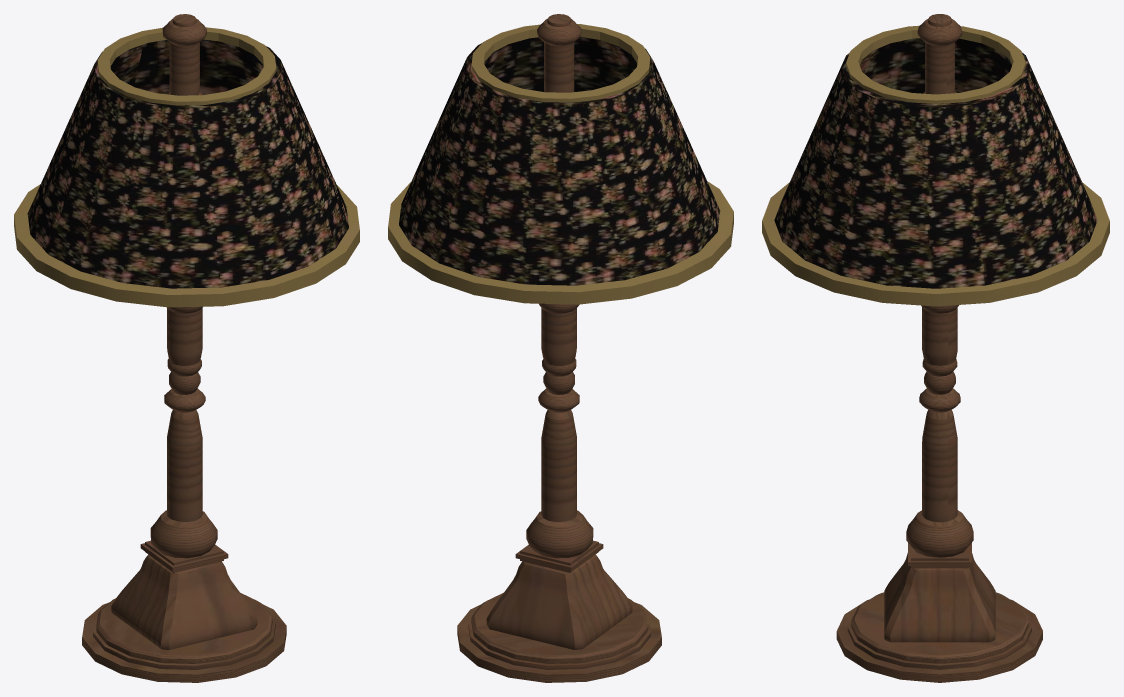
File: table-lamp-old.glb
3 renders of one model, left to right at view 1: azimuth 30°, elevation 25°; view 2: azimuth 150°, elevation 25°; view 3: azimuth 270°, elevation 25°, orthographic.
Parts seen in each view (by area): view 1: pasted__pasted__pCylinder37, pasted__pasted__pasted__pasted__pasted__pasted__pasted__past (×6), pasted__pCube38, pasted__pCylinder41, pasted__pasted__pasted__pCylinder38, pasted__pasted__pCylinder40, pasted__pCylinder40, pasted__pasted__pasted__pasted__pasted__pasted__pCylinder17_, pasted__pasted__pCylinder39, pasted__pasted__pCube38; view 2: pasted__pasted__pCylinder37, pasted__pasted__pasted__pasted__pasted__pasted__pasted__past (×6), pasted__pCube38, pasted__pCylinder41, pasted__pasted__pasted__pCylinder38, pasted__pasted__pCylinder40, pasted__pCylinder40, pasted__pasted__pasted__pasted__pasted__pasted__pCylinder17_, pasted__pasted__pCylinder39, pasted__pasted__pCube38; view 3: pasted__pasted__pCylinder37, pasted__pasted__pasted__pasted__pasted__pasted__pasted__past (×6), pasted__pCube38, pasted__pCylinder41, pasted__pasted__pasted__pCylinder38, pasted__pasted__pCylinder40, pasted__pCylinder40, pasted__pasted__pasted__pasted__pasted__pasted__pCylinder17_, pasted__pasted__pCylinder39.
Part boxes in pixels (bbox=[...]): pasted__pasted__pCylinder37: bbox=[27, 39, 348, 288]; pasted__pasted__pasted__pasted__pasted__pasted__pasted__past (×6): bbox=[150, 18, 217, 558]; pasted__pCube38: bbox=[111, 554, 257, 649]; pasted__pCylinder41: bbox=[14, 184, 359, 307]; pasted__pasted__pasted__pCylinder38: bbox=[96, 593, 272, 663]; pasted__pasted__pCylinder40: bbox=[97, 27, 276, 105]; pasted__pCylinder40: bbox=[82, 602, 286, 682]; pasted__pasted__pasted__pasted__pasted__pasted__pCylinder17_: bbox=[169, 14, 199, 95]; pasted__pasted__pCylinder39: bbox=[93, 615, 275, 669]; pasted__pasted__pCube38: bbox=[140, 543, 228, 571]; pasted__pasted__pCylinder37: bbox=[399, 37, 720, 285]; pasted__pasted__pasted__pasted__pasted__pasted__pasted__past (×6): bbox=[526, 18, 593, 558]; pasted__pCube38: bbox=[486, 554, 632, 649]; pasted__pCylinder41: bbox=[388, 181, 733, 304]; pasted__pasted__pasted__pCylinder38: bbox=[471, 593, 647, 663]; pasted__pasted__pCylinder40: bbox=[471, 24, 650, 102]; pasted__pCylinder40: bbox=[457, 602, 661, 682]; pasted__pasted__pasted__pasted__pasted__pasted__pCylinder17_: bbox=[544, 14, 574, 92]; pasted__pasted__pCylinder39: bbox=[468, 615, 650, 669]; pasted__pasted__pCube38: bbox=[515, 543, 603, 571]; pasted__pasted__pCylinder37: bbox=[774, 38, 1097, 288]; pasted__pasted__pasted__pasted__pasted__pasted__pasted__past (×6): bbox=[906, 18, 973, 557]; pasted__pCube38: bbox=[884, 553, 995, 642]; pasted__pCylinder41: bbox=[762, 182, 1109, 306]; pasted__pasted__pasted__pCylinder38: bbox=[851, 592, 1028, 663]; pasted__pasted__pCylinder40: bbox=[846, 25, 1025, 103]; pasted__pCylinder40: bbox=[836, 599, 1042, 682]; pasted__pasted__pasted__pasted__pasted__pasted__pCylinder17_: bbox=[925, 14, 954, 94]; pasted__pasted__pCylinder39: bbox=[847, 611, 1031, 669].
Bounding box in the file's own units: 0.2787 × 0.55 × 0.2787.
1 material, 1 textured.
